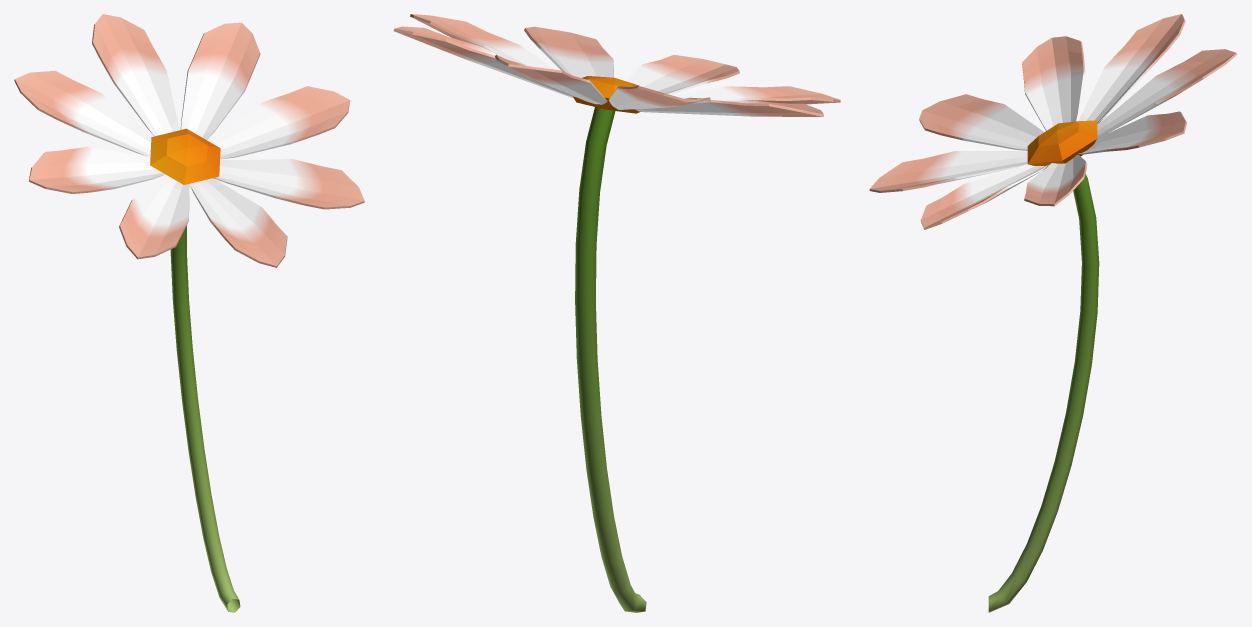
The model's file is Flower04A.fbx.
3 renders of one model, left to right at view 1: azimuth 30°, elevation 25°; view 2: azimuth 150°, elevation 25°; view 3: azimuth 270°, elevation 25°, orthographic. The views are drawn at different scales.
Visible parts, largest first — view 1: Flower04_LOD0; view 2: Flower04_LOD0; view 3: Flower04_LOD0.
Boxes of the visible parts, x1,y1,x2,y2 form: Flower04_LOD0: (14, 14, 364, 612); Flower04_LOD0: (393, 14, 840, 612); Flower04_LOD0: (869, 14, 1237, 612).
Size of what is drawn, in the model's own units: 54.31 by 83.33 by 50.36.
